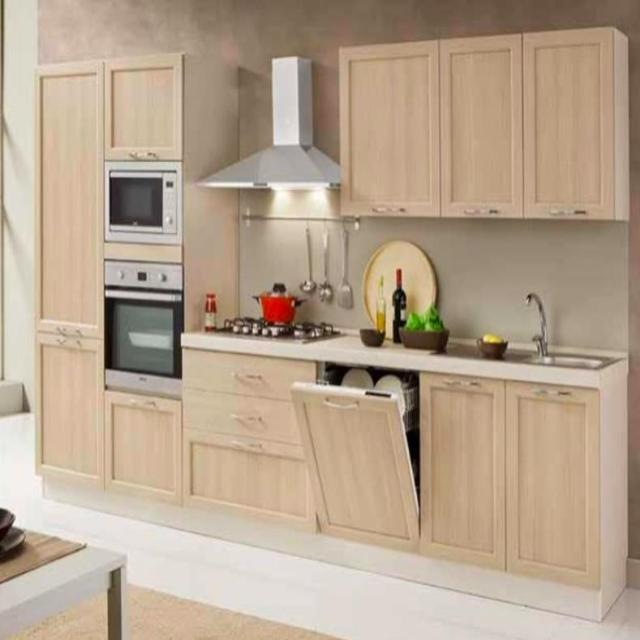dishwasher: (290, 370, 420, 555)
